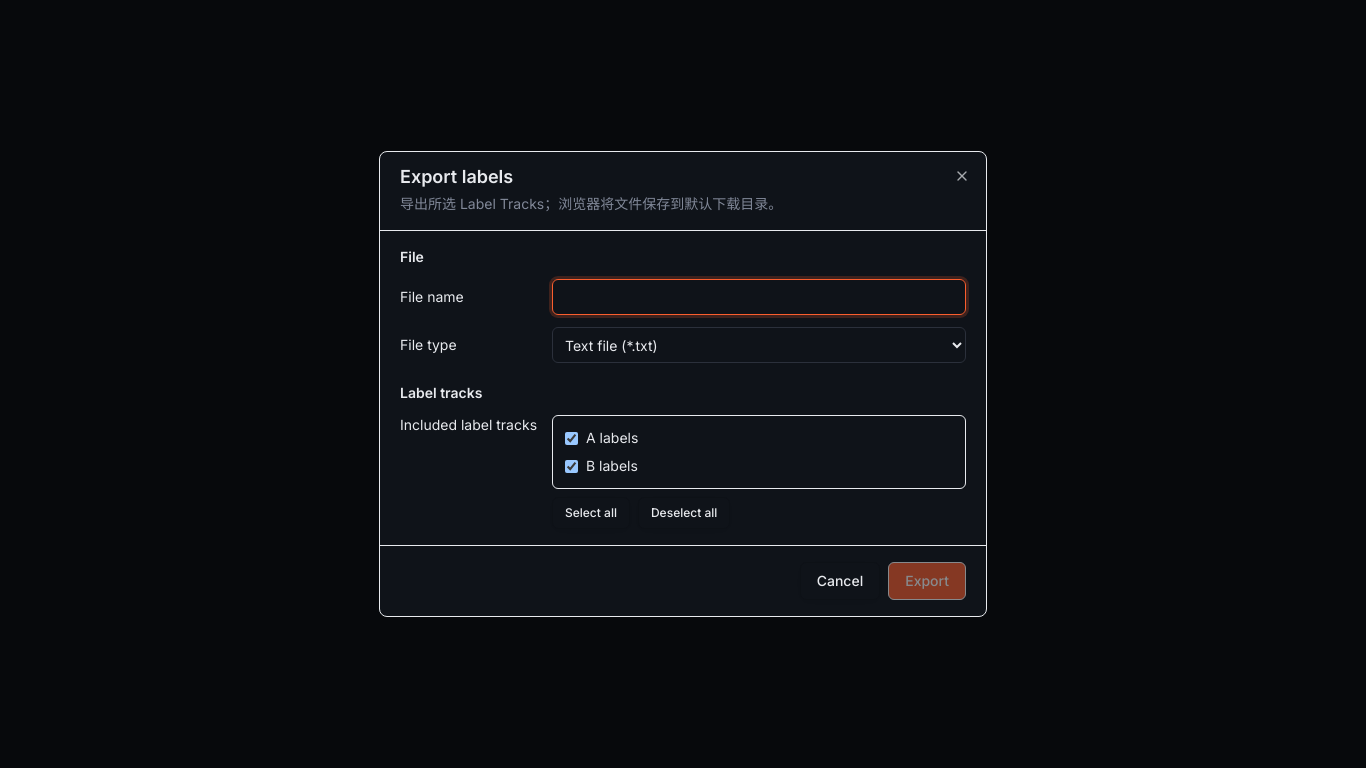
it: ExportLabelsDialog › supports select/deselect all and blocks an empty selection
Check: the checkbox with test id "export-label-track-lane-a" is checked, box x1=565 y1=432 x2=578 y2=444
Check: the checkbox with test id "export-label-track-lane-b" is checked, box x1=565 y1=460 x2=578 y2=472
Type "labels" into the field with test id "export-labels-file-name" at (759, 297), box x1=552 y1=279 x2=966 y2=315
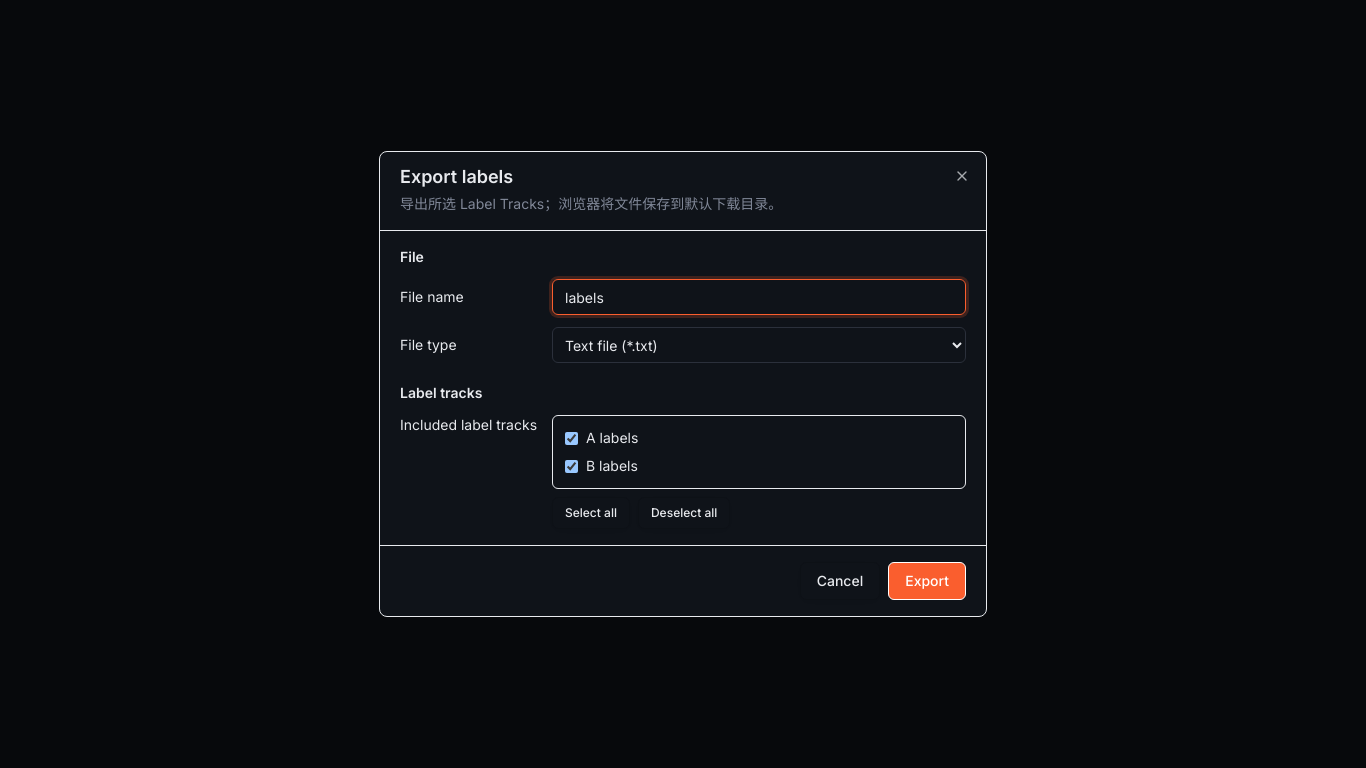
Click the button with test id "export-labels-deselect-all" at (684, 513), box x1=638 y1=497 x2=730 y2=529
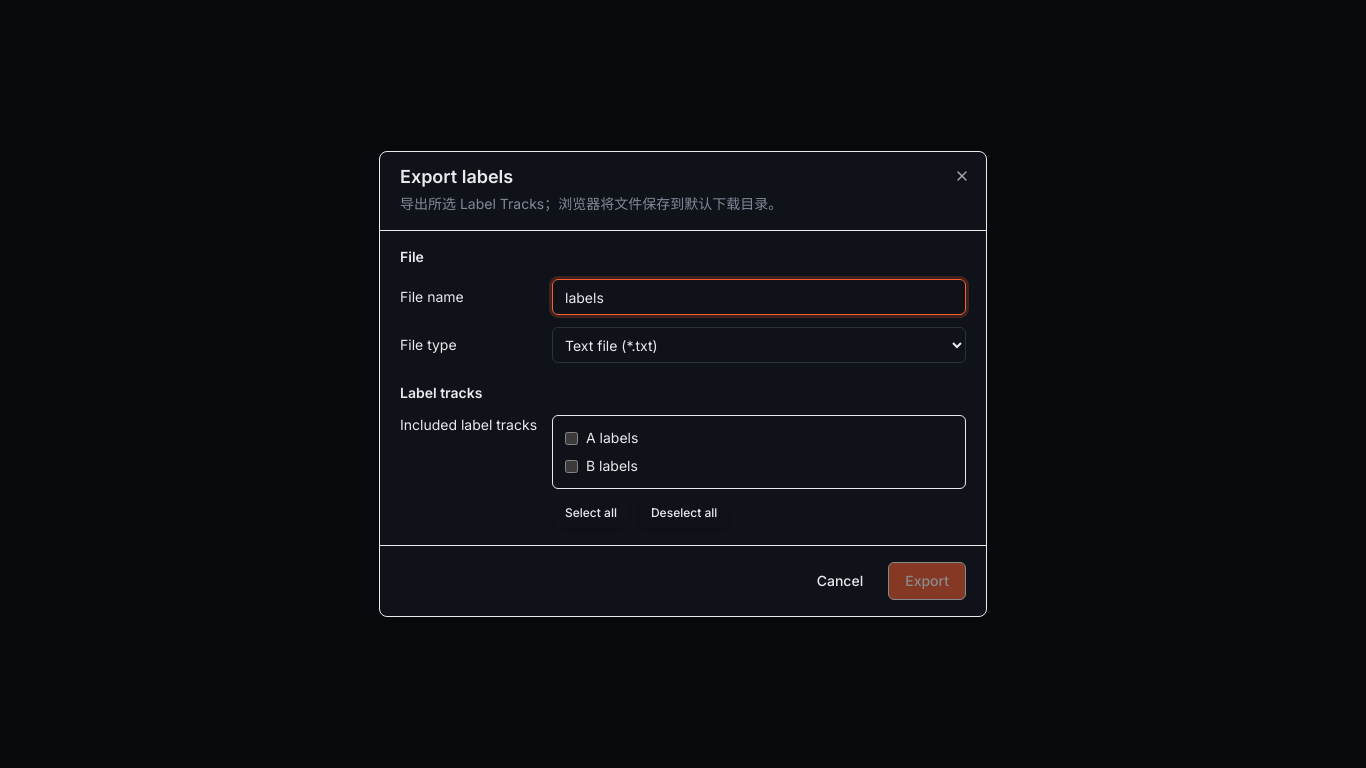
Check: the button with test id "export-labels-confirm" is disabled, box x1=888 y1=562 x2=966 y2=600
Click the button with test id "export-labels-select-all" at (591, 513), box x1=552 y1=497 x2=630 y2=529
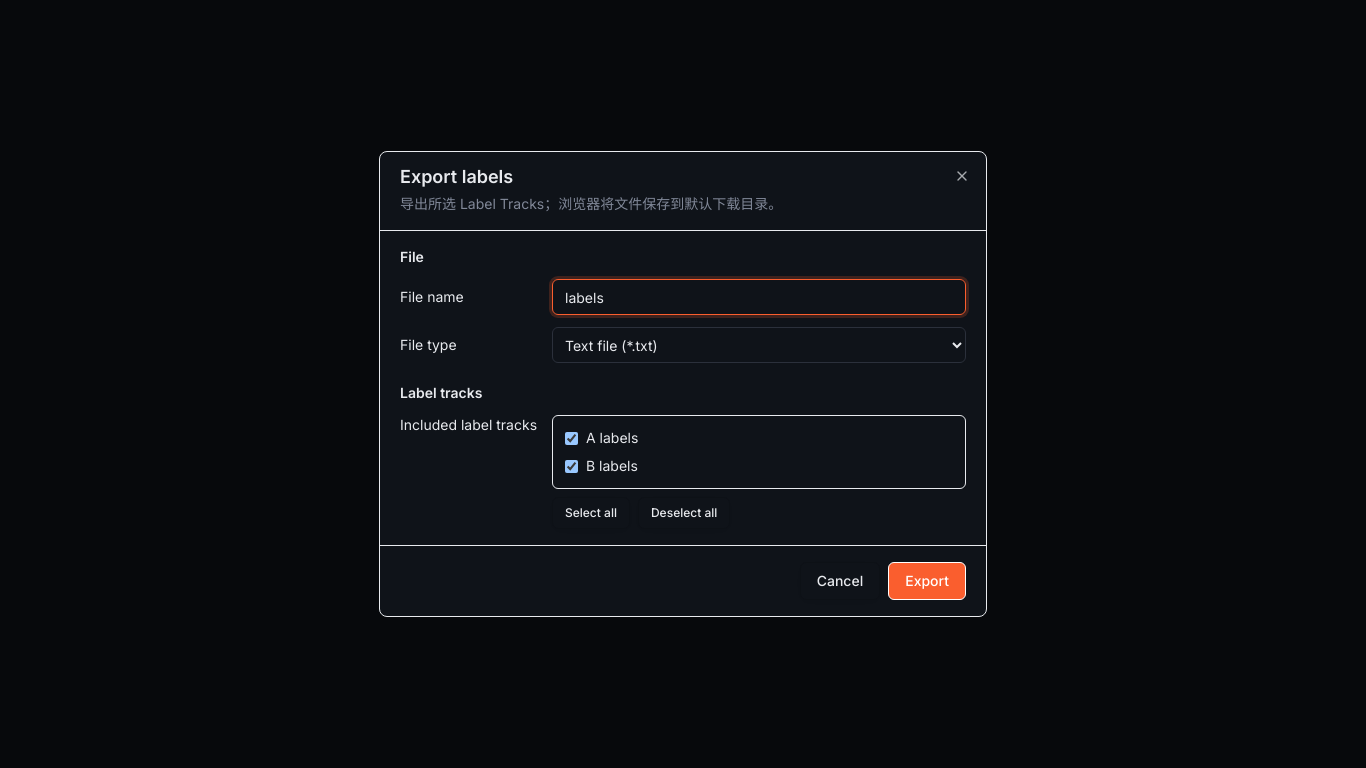
Check: the button with test id "export-labels-confirm" is enabled, box x1=888 y1=562 x2=966 y2=600
